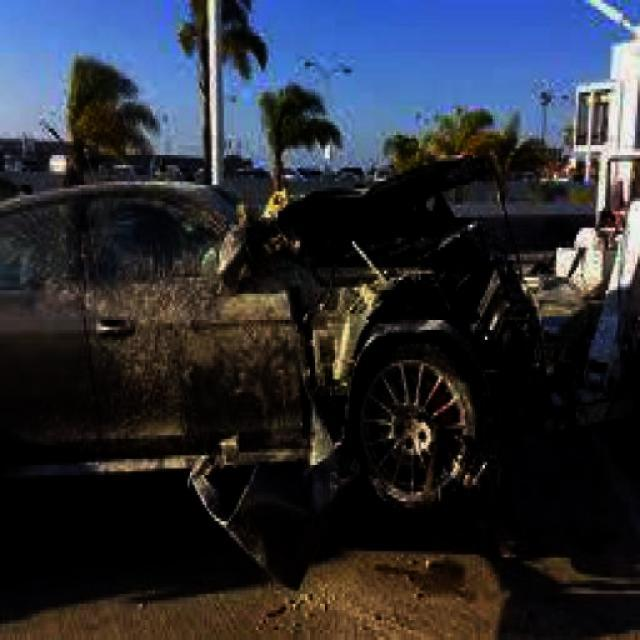car damage: (4, 161, 557, 592)
